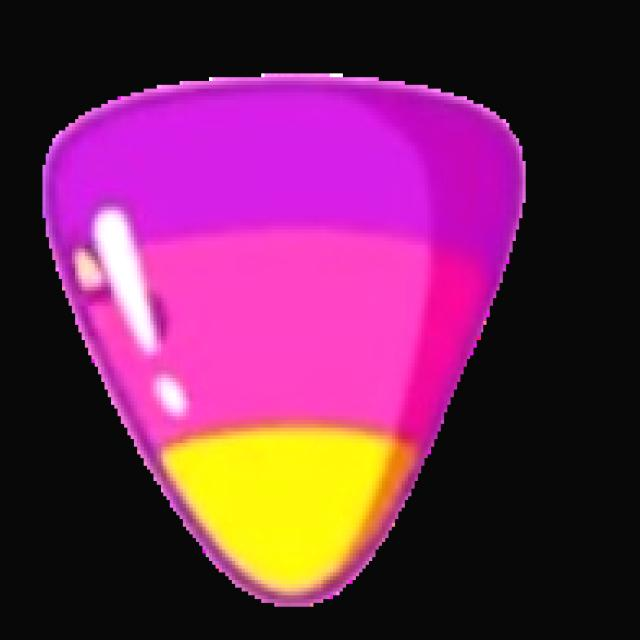Ground Monster - Red Bullet: (39, 72, 529, 610)
